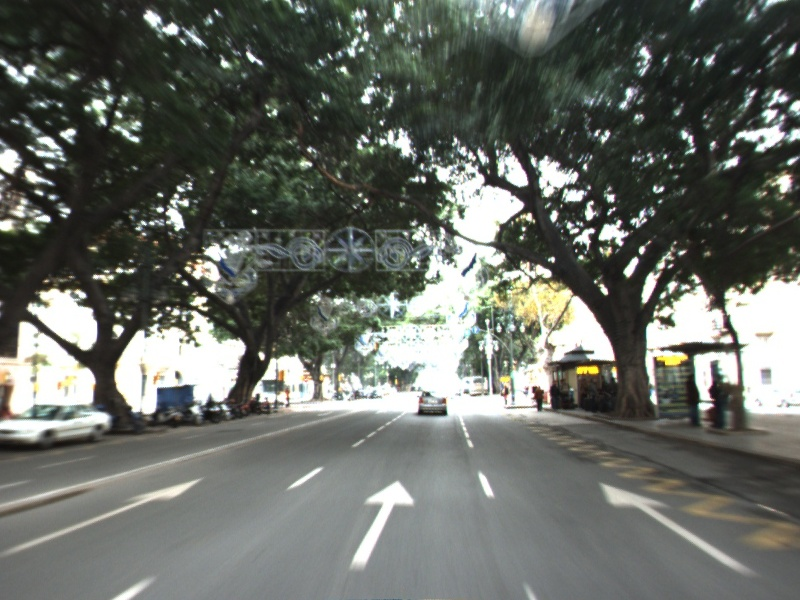STRAIGHT: (1, 473, 211, 558), (596, 480, 765, 579), (346, 478, 417, 574)
